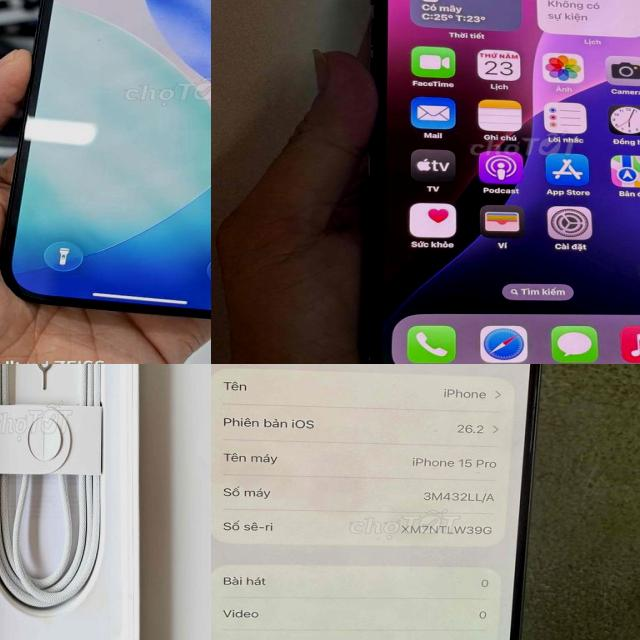gen_12_13: (354, 0, 640, 364)
gen_15: (211, 364, 533, 640)
gen_16: (1, 0, 211, 318), (140, 364, 211, 640)
